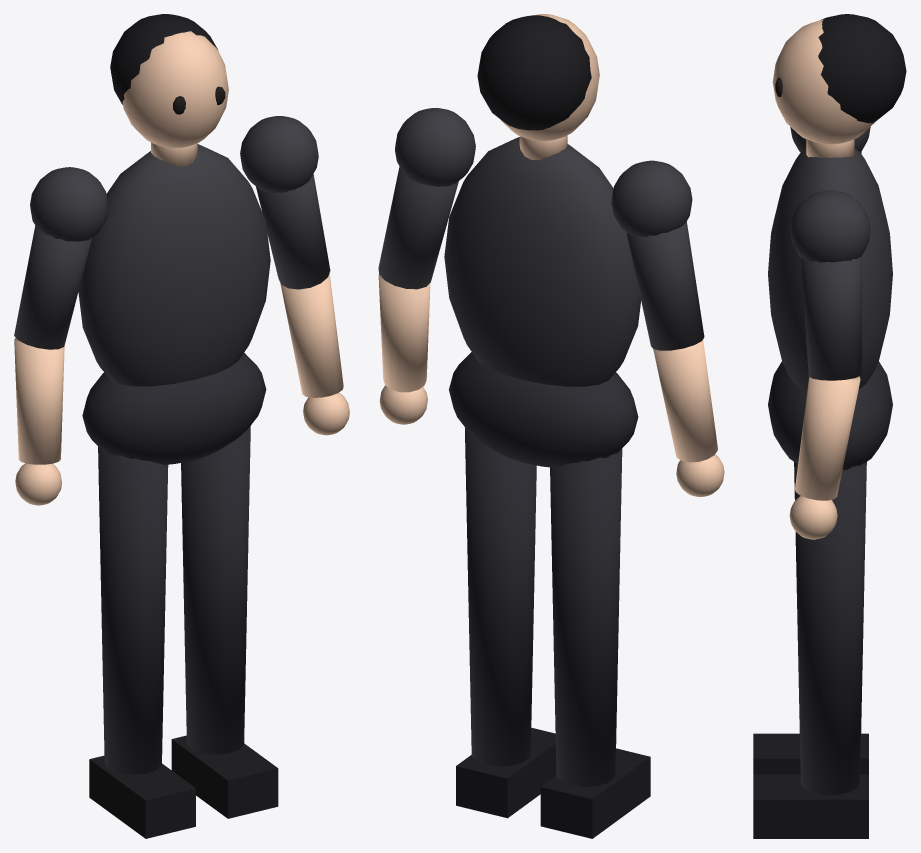
The model's file is thug.glb.
3 views of the same model, side by side, from view 1: azimuth 30°, elevation 25°; view 2: azimuth 150°, elevation 25°; view 3: azimuth 270°, elevation 25° (orthographic). The views are drawn at different scales.
Parts seen in each view (by area): view 1: thug; view 2: thug; view 3: thug.
Part boxes in pixels (<box>): thug: <box>14,14,349,838</box>; thug: <box>378,14,724,838</box>; thug: <box>753,14,906,838</box>.
Size of the model in its own units: 0.8102 by 1.82 by 0.3198.
